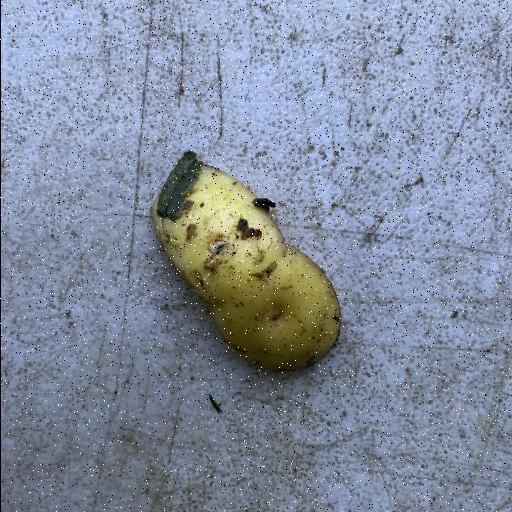Waste: (148, 149, 342, 373)
